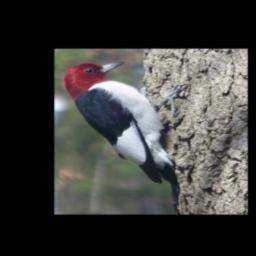Woodpecker: (62, 60, 193, 187)
